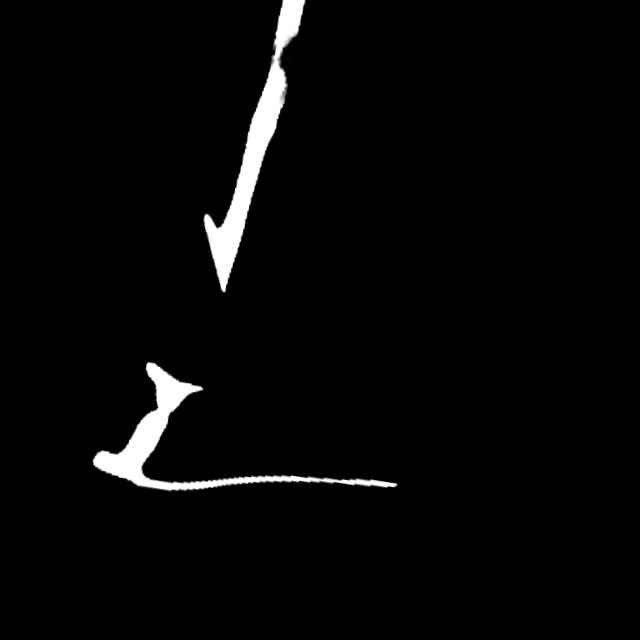sl: (251, 16, 311, 101)
